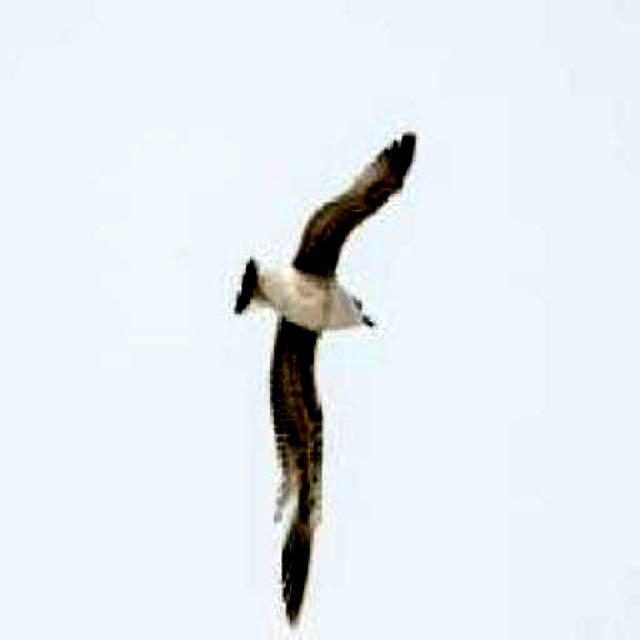airplane: (234, 131, 420, 629)
